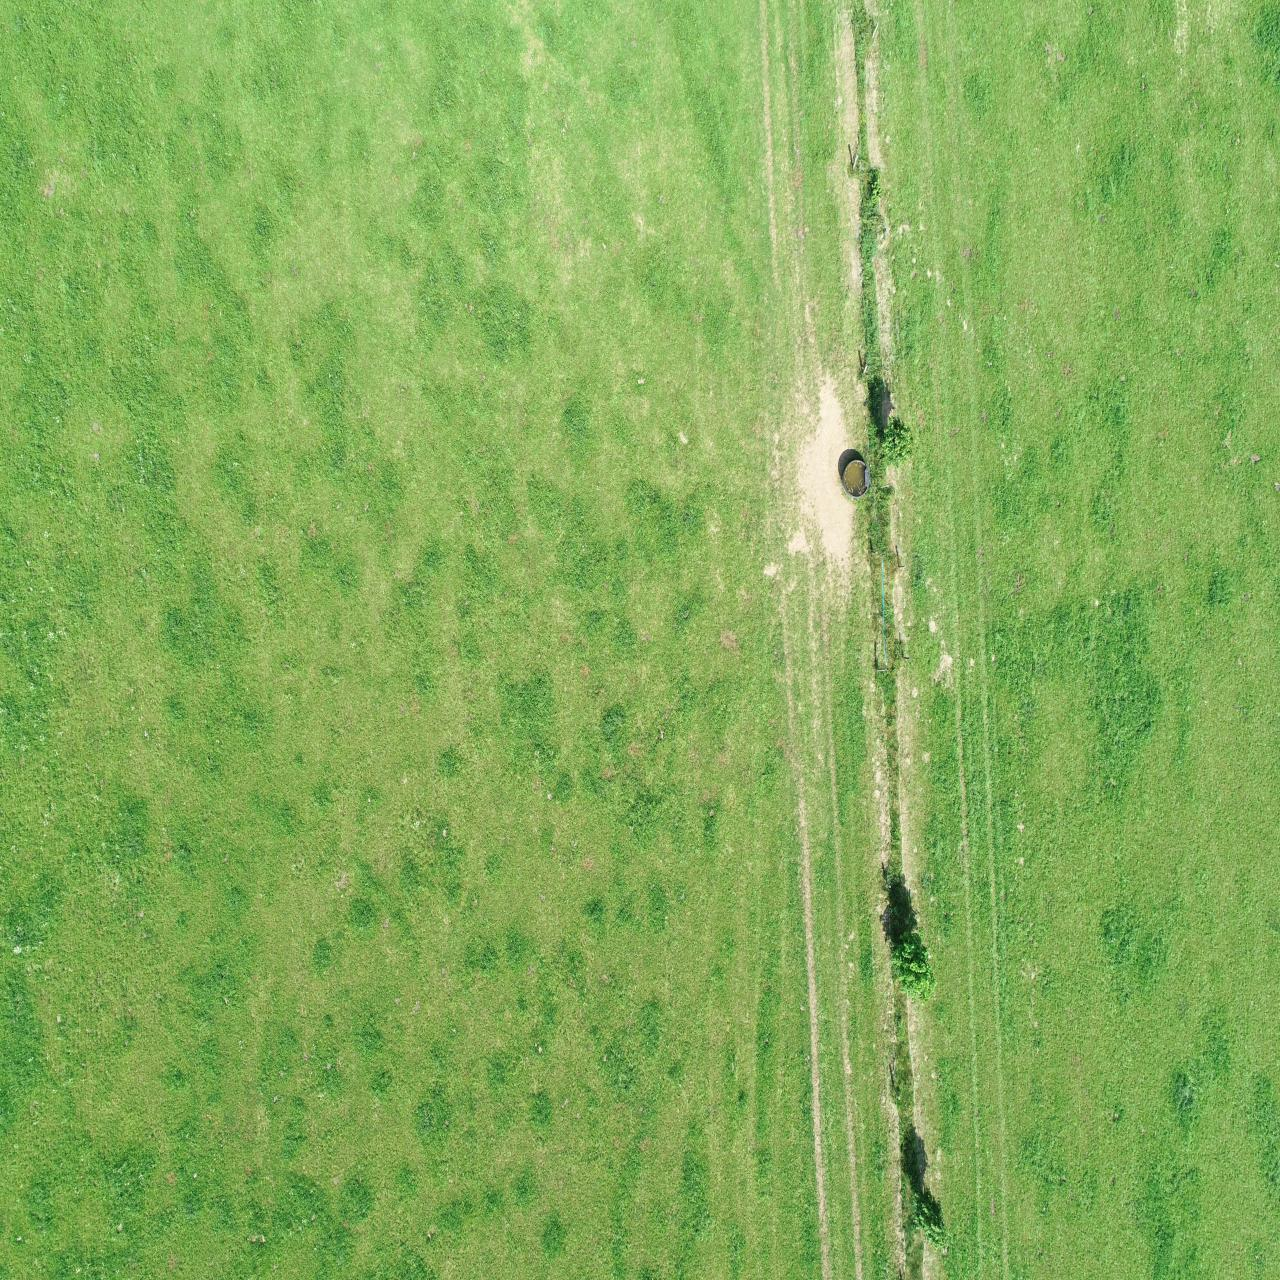cow: (1231, 602, 1264, 639)
